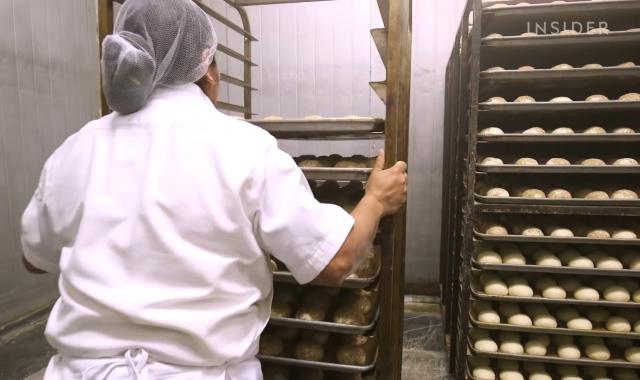hairnet: (99, 1, 218, 112)
